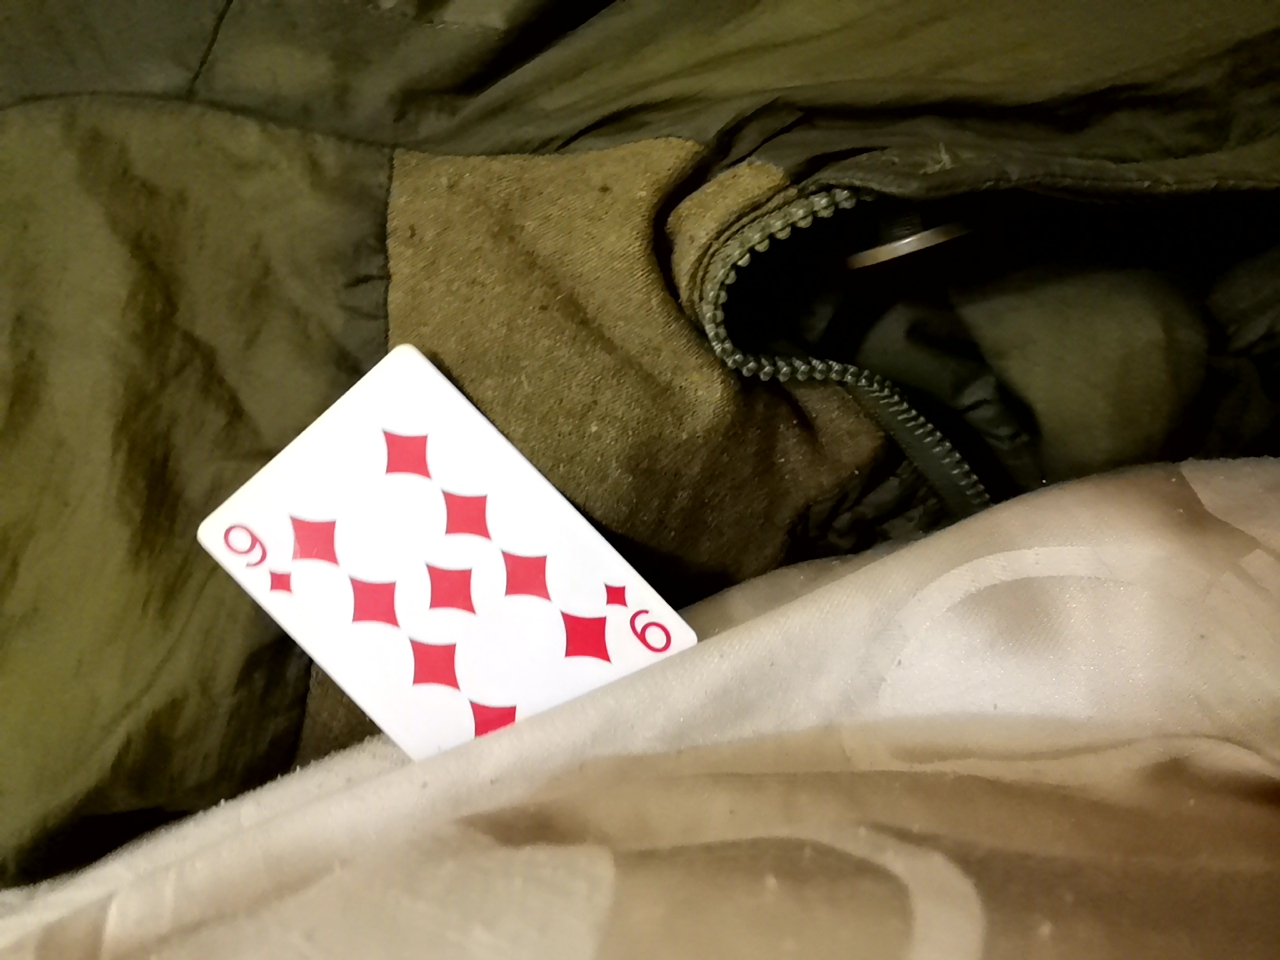fk 9: (163, 364, 671, 828)
